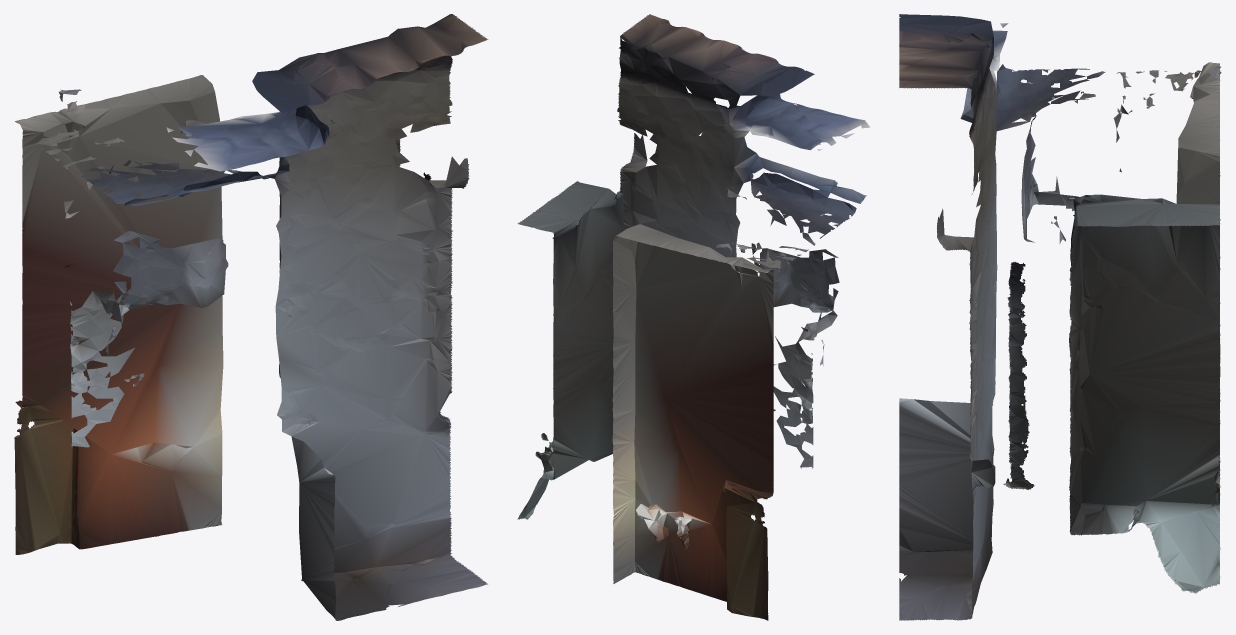
The model's file is coarse.glb.
3 renders of one model, left to right at view 1: azimuth 30°, elevation 25°; view 2: azimuth 150°, elevation 25°; view 3: azimuth 270°, elevation 25°, orthographic. The views are drawn at different scales.
Size of the model in its own units: 2.08 by 3.57 by 1.91.
